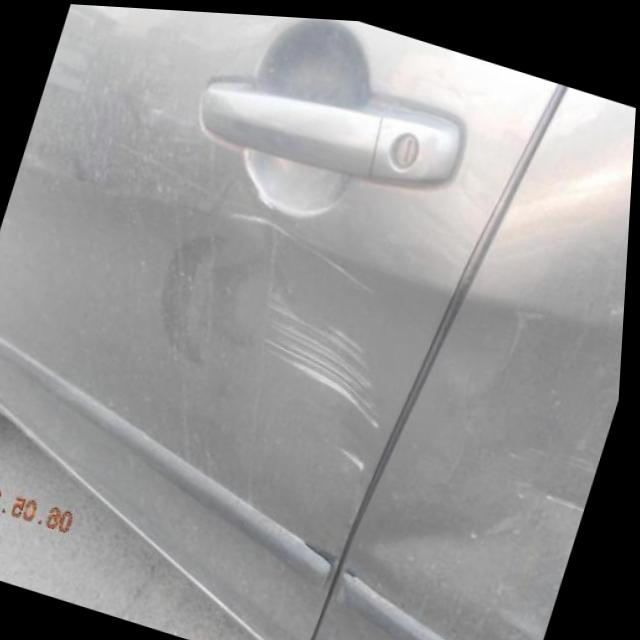Car-Damage: (384, 267, 628, 639), (238, 291, 412, 430), (206, 194, 396, 303), (497, 287, 554, 378), (334, 436, 379, 481)
